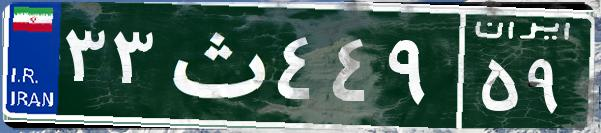3: (57, 26, 110, 107), (110, 28, 158, 105)
4: (273, 28, 330, 110), (330, 28, 385, 110)
5: (475, 38, 525, 113)
9: (385, 28, 445, 110), (525, 38, 570, 115)
ث: (158, 15, 273, 115)
